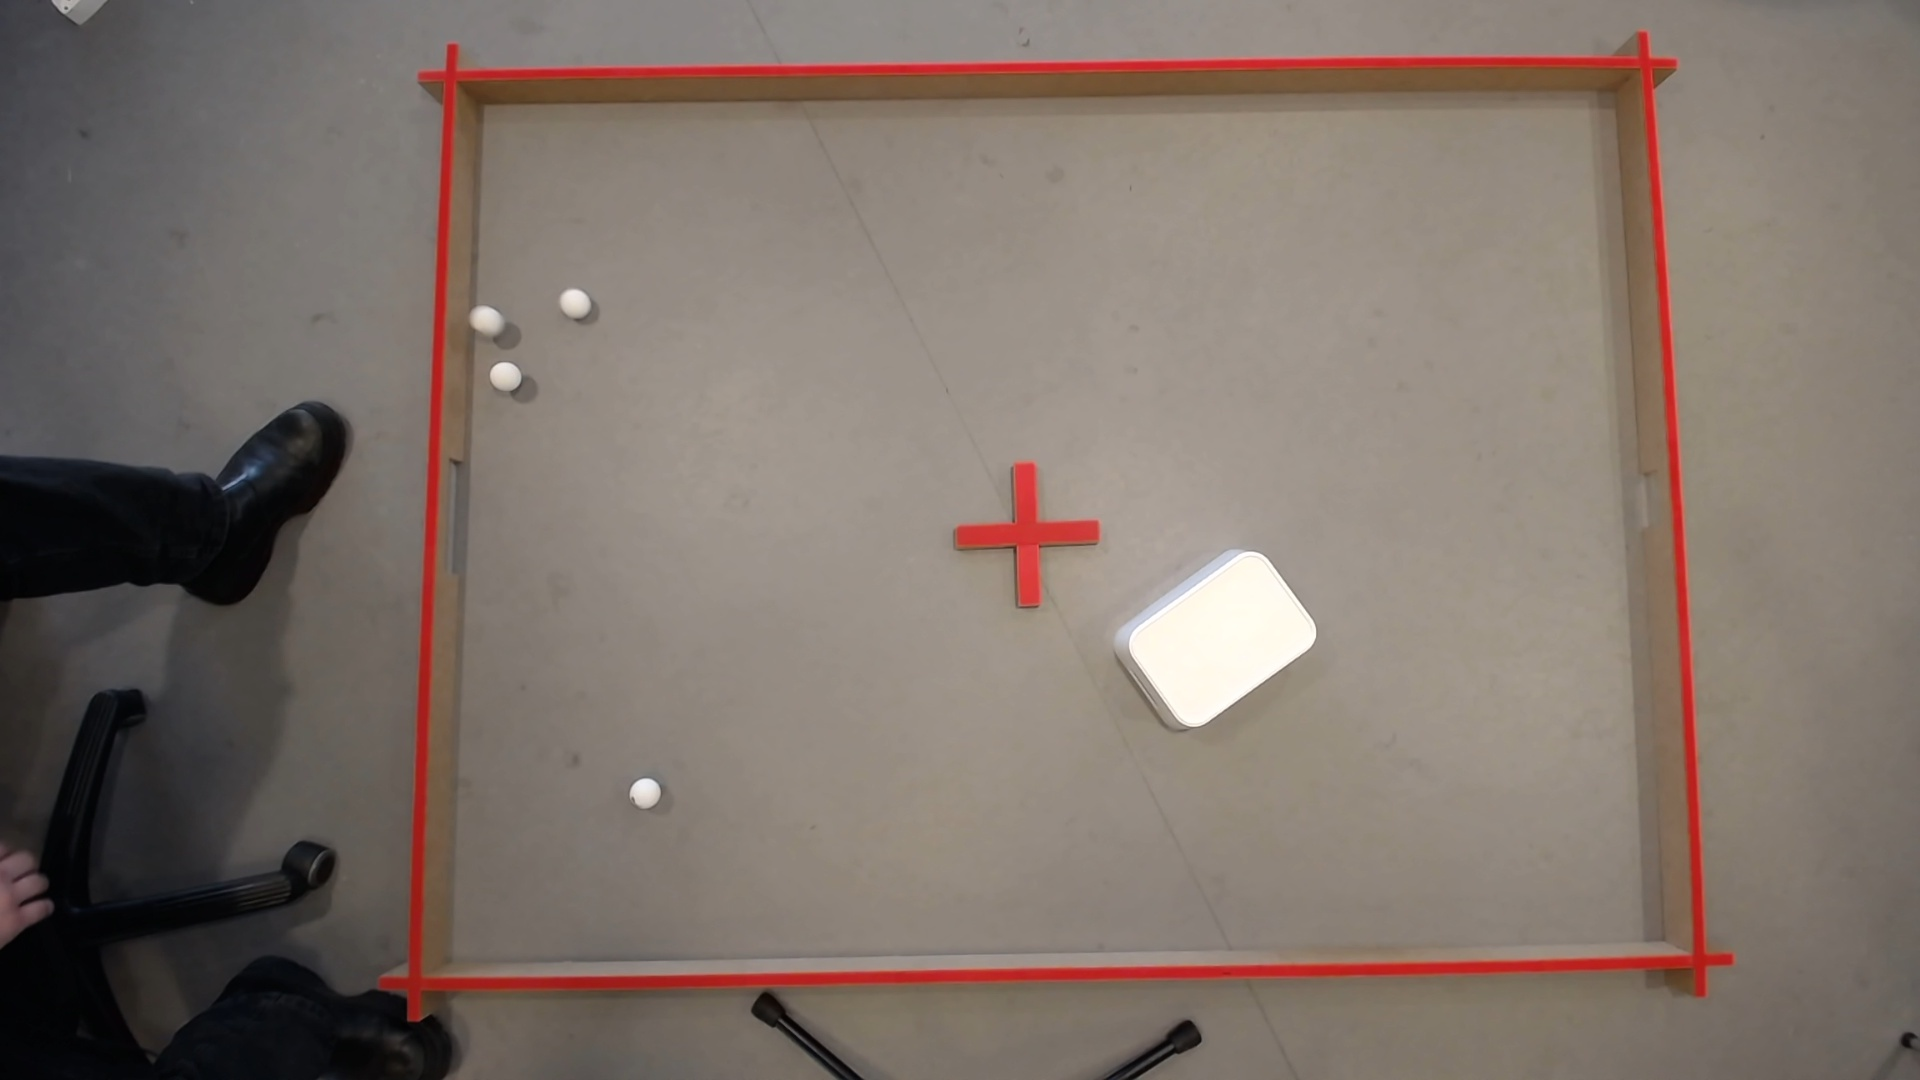balls: (1113, 531, 1325, 736), (625, 771, 662, 808), (485, 356, 521, 390), (562, 289, 588, 310)
car: (473, 306, 497, 326)
